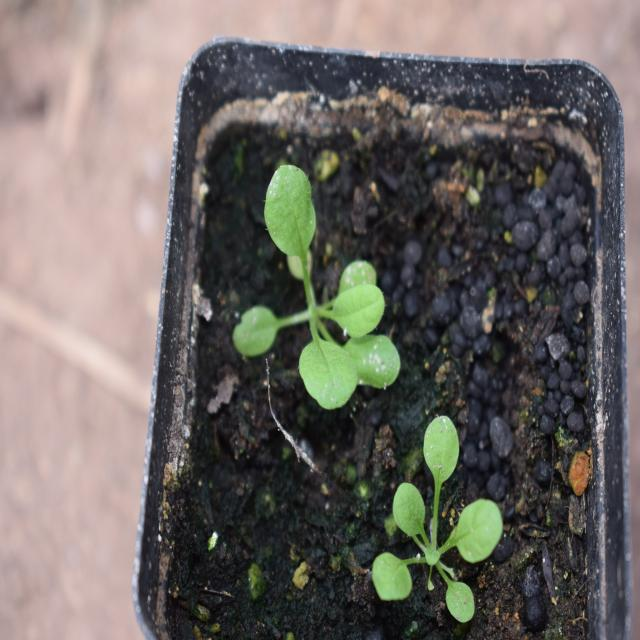Shepherd_Purse: (232, 156, 406, 424), (372, 416, 509, 610)
